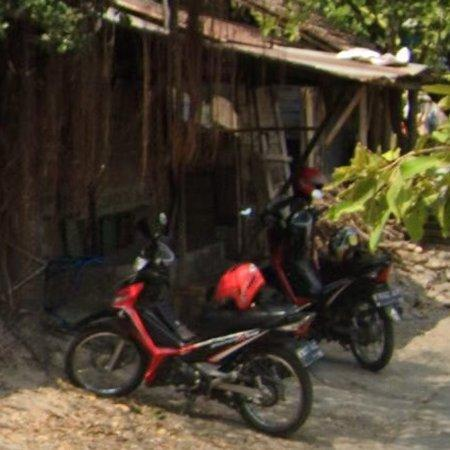motorcycles: (66, 214, 313, 436), (215, 168, 402, 372)
